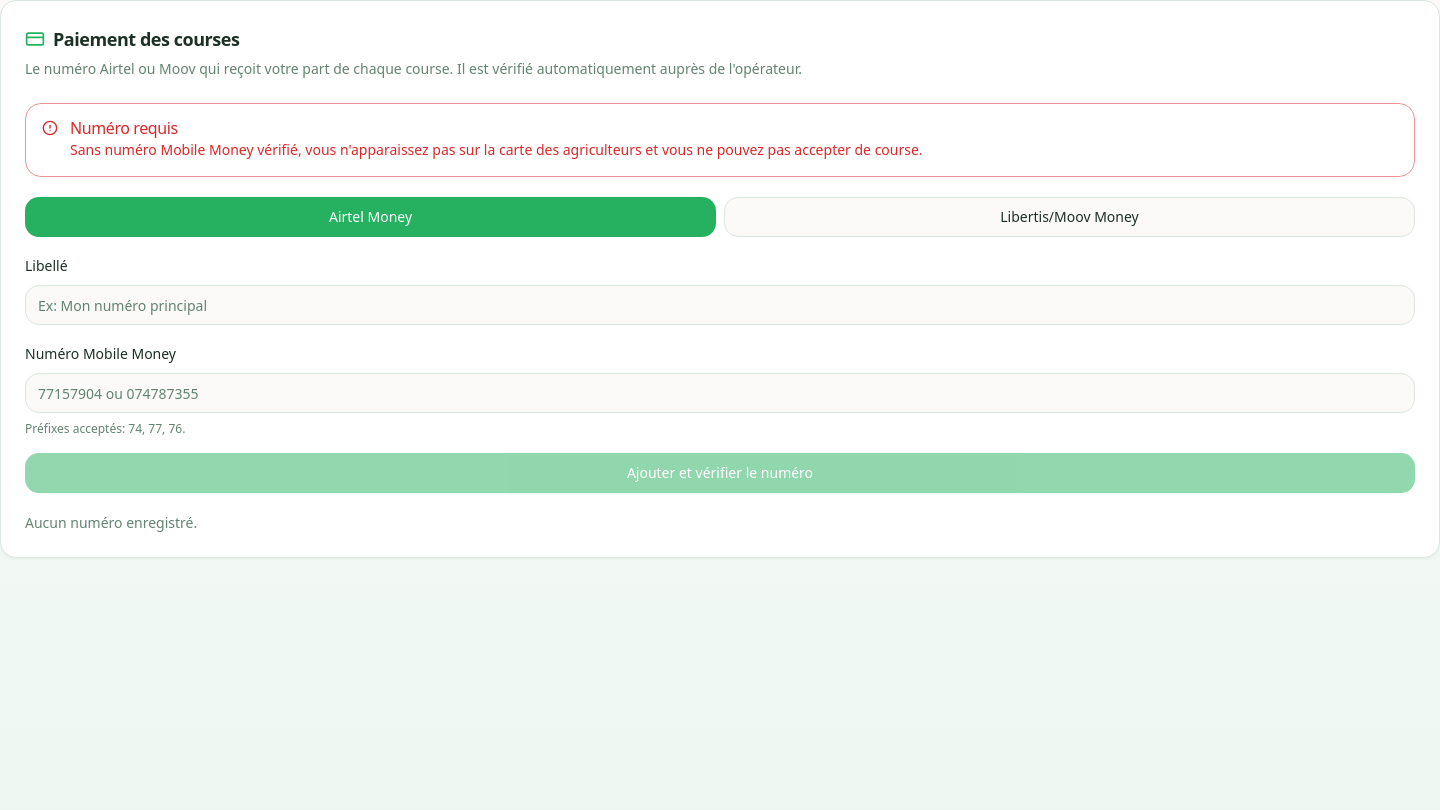
Test case: DriverPayoutAccounts › shows a validation error from the service and does not verify
Expected: the heading "Numéro requis" is shown, [70,117,178,139]
Type "123" into the field labelled "Numéro Mobile Money" at coordinates (720, 393), box [25,373,1415,413]
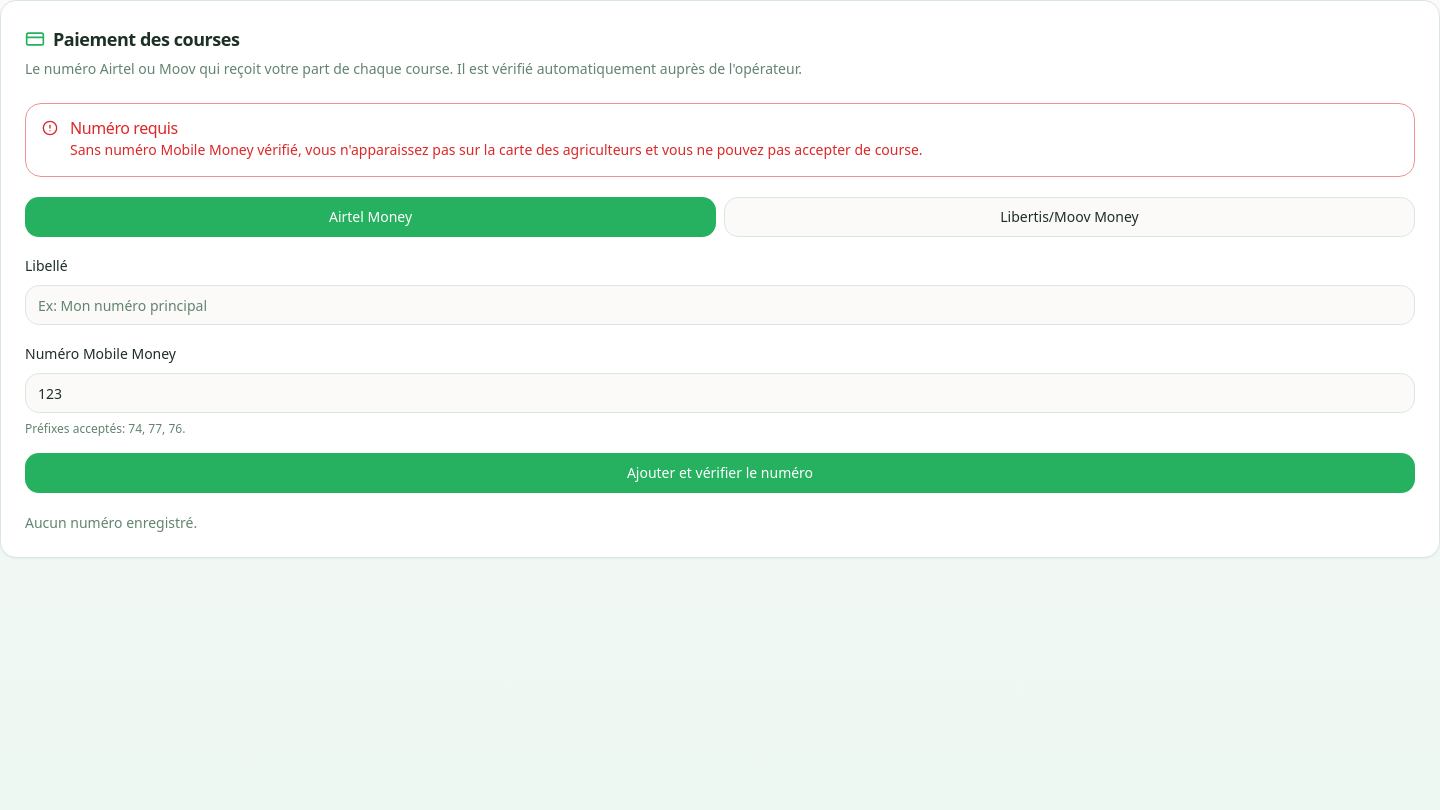
Click the button "Ajouter et vérifier le numéro" at coordinates (720, 473), box [25,453,1415,493]
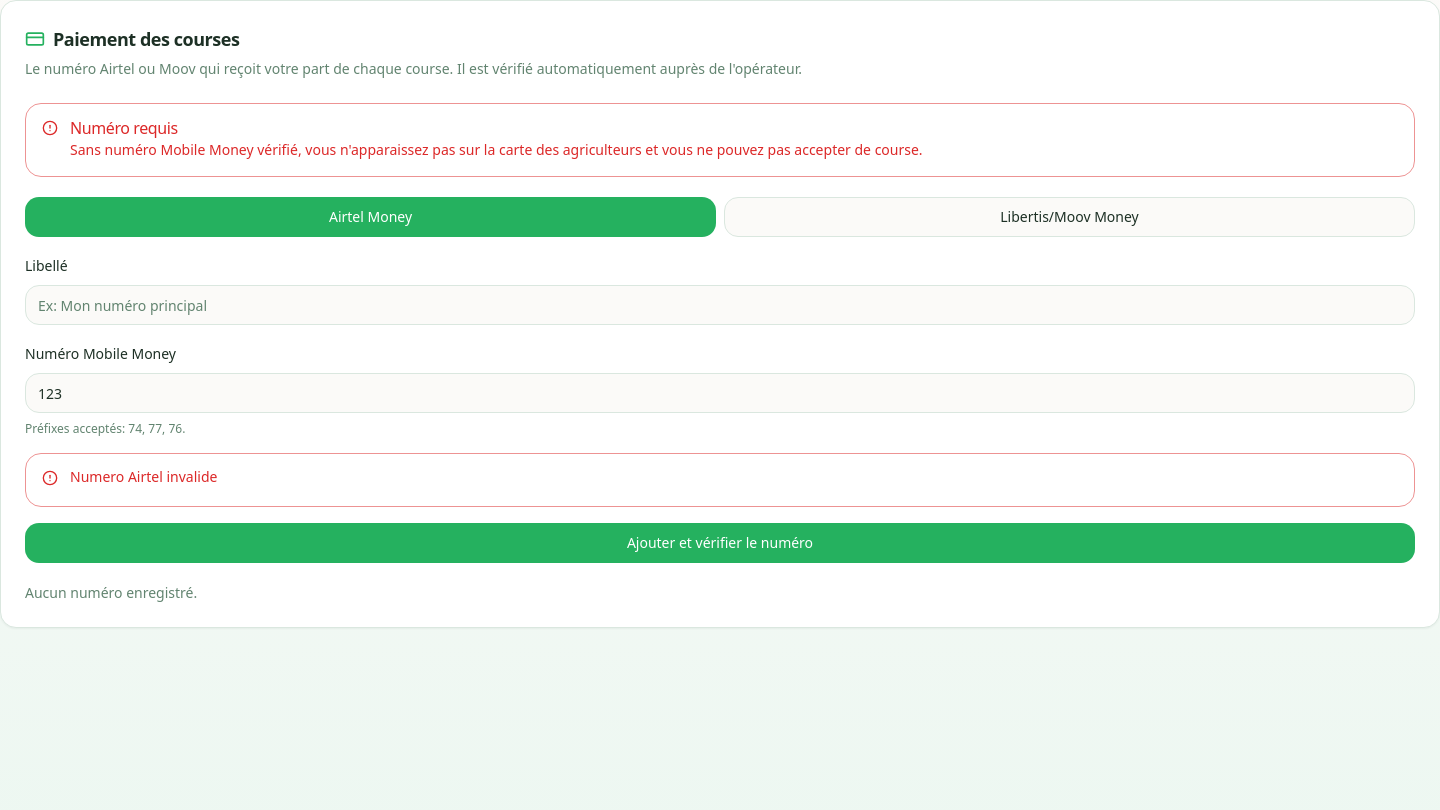
Now the text "Numero Airtel invalide" is shown, box [70,467,217,486]
